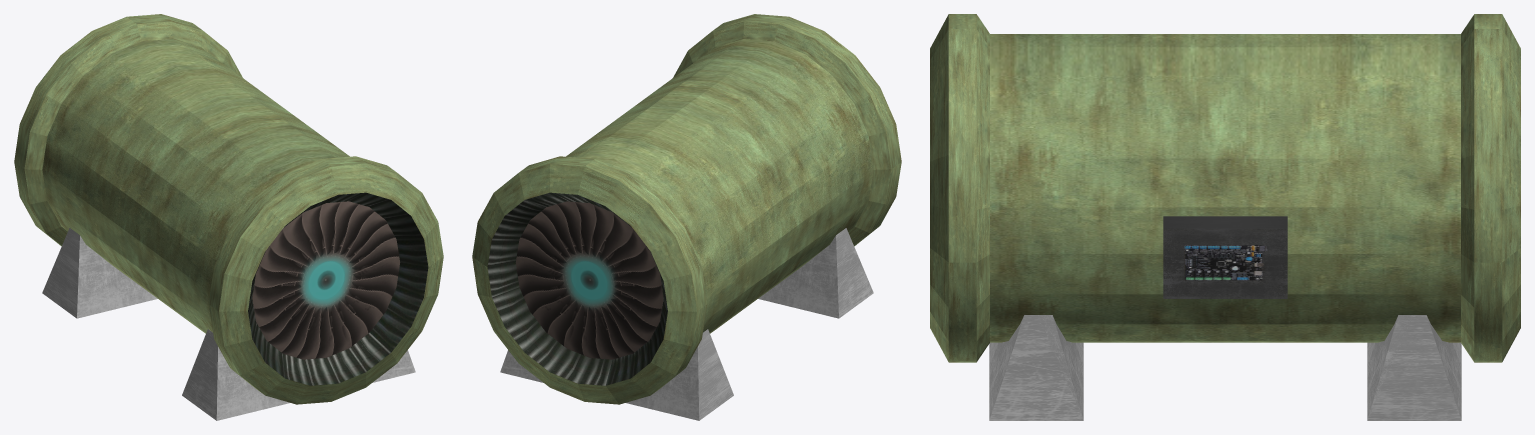
Rendered from Wire_Bend_Up.fbx.
The picture shows the model from 3 angles, left to right: view 1: azimuth 30°, elevation 25°; view 2: azimuth 150°, elevation 25°; view 3: azimuth 270°, elevation 25°; orthographic projection. The views are drawn at different scales.
Visible parts, largest first — view 1: Generator; view 2: Generator; view 3: Generator.
Boxes of the visible parts, box(x1,y1,x2,y2) form: Generator: box(14, 14, 443, 420); Generator: box(472, 14, 901, 420); Generator: box(930, 14, 1520, 420).
Bounding box in the file's own units: 208 × 212 × 347.
